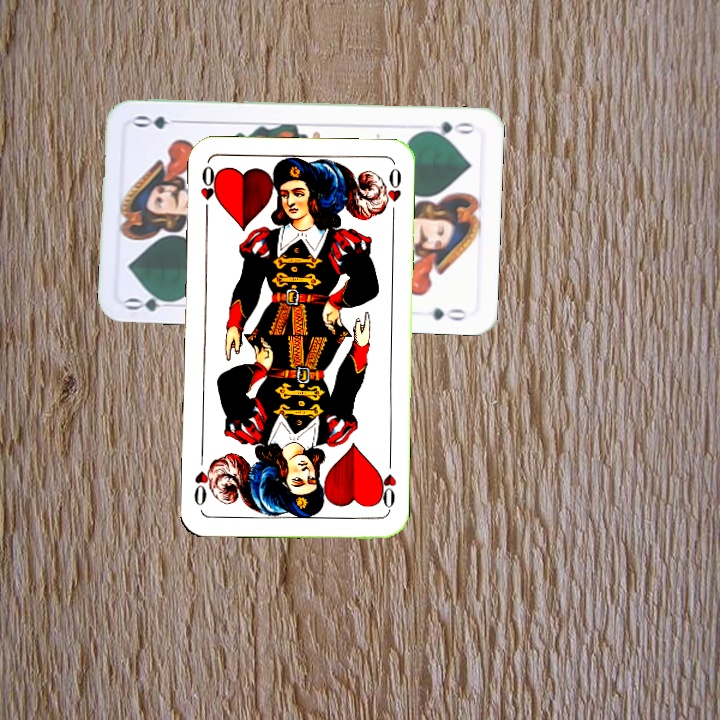GO: (122, 288, 181, 314), (419, 117, 477, 140)
HO: (374, 454, 399, 513), (196, 162, 220, 220)
